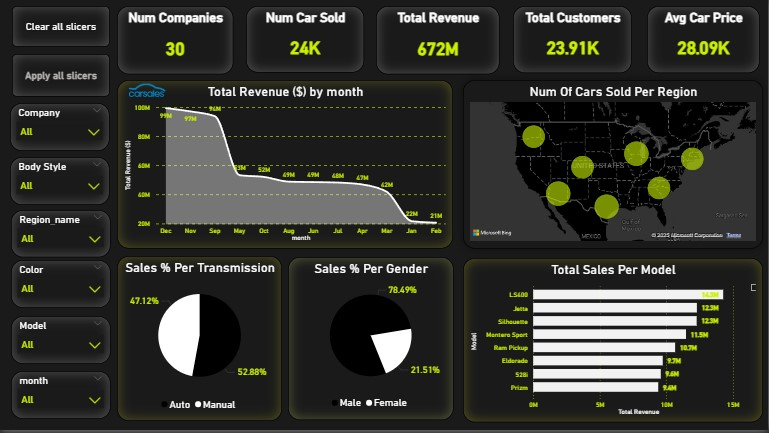

Layout of this report page (visuals, bound fields, positions):
{"tool":"powerbi","page":{"name":"Overview","canvas":[1280,720],"ordinal":1},"visuals":[{"type":"card","title":"Total Revenue","fields":{"Values":["Sum(sales_fact.Price ($))"]},"box":[626.2,13.8,206.2,113.8],"z":0},{"type":"card","title":"Num Car Sold","fields":{"Values":["sales_fact.Total Cars Sold"]},"box":[410.8,13.8,196.9,110.8],"z":1000},{"type":"card","title":"Avg Car Price","fields":{"Values":["Avg(sales_fact.Price ($))"]},"box":[1078.5,13.8,187.7,112.3],"z":2000},{"type":"card","title":"Total Customers","fields":{"Values":["CountNonNull(customer_dim.customer_id)"]},"box":[855.4,13.8,198.5,112.3],"z":3000},{"type":"card","title":"Num Companies","fields":{"Values":["Count(car_dim.Company)"]},"box":[195.4,13.8,193.8,113.8],"z":4000},{"type":"clusteredBarChart","title":"Total Sales Per Model","fields":{"Category":["car_dim.Company Hierarchy.Body Style","car_dim.Company Hierarchy.Model","car_dim.Company Hierarchy.Color"],"Y":["Sum(sales_fact.Price ($))"]},"box":[770.9,433.7,500,274.4],"z":5000},{"type":"map","title":"Num Of Cars Sold Per Region","fields":{"Category":["region_dim.Region_name"],"Size":["CountNonNull(sales_fact.Car_id)"]},"box":[770.9,136,500,281.4],"z":6000},{"type":"lineChart","fields":{"Category":["Date_dim.Date Hierarchy.Year","Date_dim.Date Hierarchy.QuarterName","Date_dim.Date Hierarchy.month","Date_dim.Date Hierarchy.DayOfWeek"],"Y":["Sum(sales_fact.Price ($))"]},"box":[195.3,136,560.5,281.4],"z":7000},{"type":"pieChart","title":"Sales % Per Transmission","fields":{"Category":["car_dim.Transmission"],"Y":["Sum(sales_fact.Price ($))"]},"box":[195.4,430.8,275.4,275.4],"z":8000},{"type":"pieChart","title":"Sales % Per Gender","fields":{"Category":["customer_dim.Gender"],"Y":["Sum(sales_fact.Price ($))"]},"box":[480.2,431.4,275.6,272.1],"z":9000},{"type":"slicer","title":"Company","fields":{"Values":["car_dim.Company"]},"box":[17.2,174.9,166.3,80.2],"z":10000},{"type":"slicer","fields":{"Values":["car_dim.Color"]},"box":[17.7,437.4,166,80.2],"z":11000},{"type":"slicer","fields":{"Values":["car_dim.Body Style"]},"box":[17.2,264.4,166.3,80.2],"z":12000},{"type":"slicer","fields":{"Values":["car_dim.Model"]},"box":[18.8,529.3,166,80.2],"z":13000},{"type":"slicer","fields":{"Values":["Date_dim.month"]},"box":[17.7,622.3,166.3,80.2],"z":14000},{"type":"slicer","fields":{"Values":["region_dim.Region_name"]},"box":[18.8,352.6,166,79.1],"z":15000},{"type":"actionButton","box":[20,93.8,163.1,70.8],"z":16000},{"type":"actionButton","box":[20,13.8,163.1,67.7],"z":17000},{"type":"image","box":[209.3,116.3,70.9,73.3],"z":18000}]}

Visuals, with their boxes in screenshot pixels (x1, y1, x2, y2), scaled from the page's 1280x720 canvas onto the 769x433 screenshot:
"Total Revenue" card: crop(376, 8, 500, 77)
"Num Car Sold" card: crop(247, 8, 365, 75)
"Avg Car Price" card: crop(648, 8, 761, 76)
"Total Customers" card: crop(514, 8, 633, 76)
"Num Companies" card: crop(117, 8, 234, 77)
"Total Sales Per Model" clusteredBarChart: crop(463, 261, 764, 426)
"Num Of Cars Sold Per Region" map: crop(463, 82, 764, 251)
lineChart - Date_dim.Date Hierarchy.Year x Date_dim.Date Hierarchy.QuarterName: crop(117, 82, 454, 251)
"Sales % Per Transmission" pieChart: crop(117, 259, 283, 425)
"Sales % Per Gender" pieChart: crop(288, 259, 454, 423)
"Company" slicer: crop(10, 105, 110, 153)
slicer - car_dim.Color: crop(11, 263, 110, 311)
slicer - car_dim.Body Style: crop(10, 159, 110, 207)
slicer - car_dim.Model: crop(11, 318, 111, 367)
slicer - Date_dim.month: crop(11, 374, 111, 422)
slicer - region_dim.Region_name: crop(11, 212, 111, 260)
actionButton: crop(12, 56, 110, 99)
actionButton: crop(12, 8, 110, 49)
image: crop(126, 70, 168, 114)
